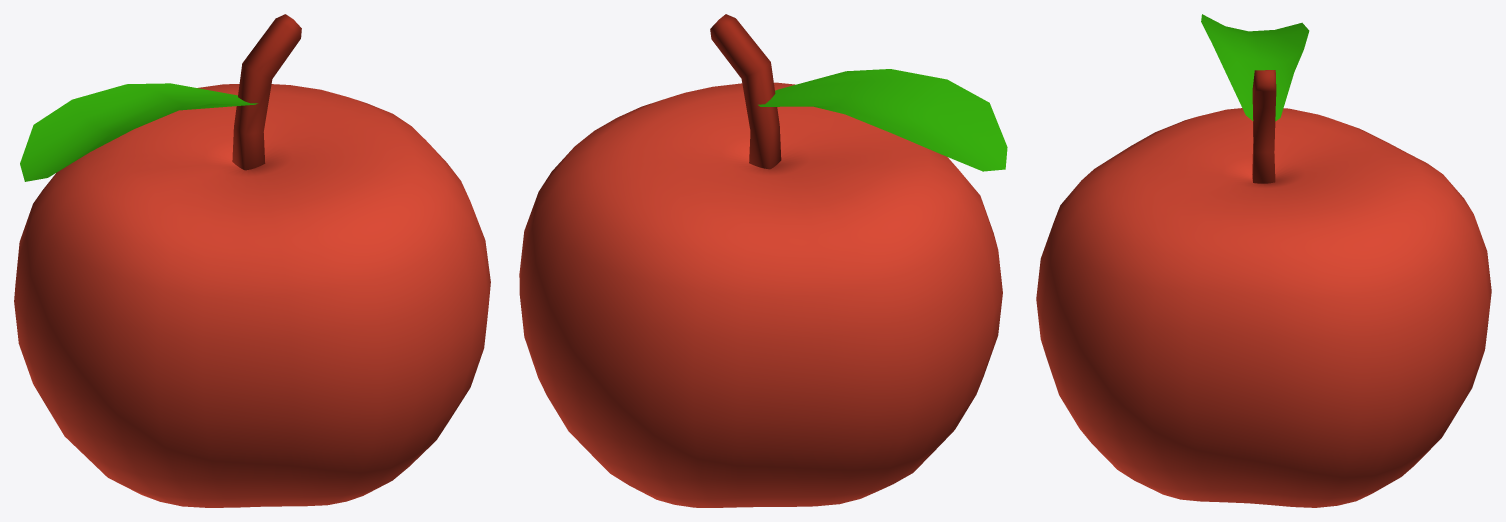
File: Maçã.gltf
3 renders of one model, left to right at view 1: azimuth 30°, elevation 25°; view 2: azimuth 150°, elevation 25°; view 3: azimuth 270°, elevation 25°, orthographic. The views are drawn at different scales.
Visible parts, largest first — view 1: Plane; view 2: Plane; view 3: Plane.
Part boxes in pixels (<box>): Plane: <box>14,14,490,507</box>; Plane: <box>519,14,1007,507</box>; Plane: <box>1036,14,1491,507</box>.
Bounding box in the file's own units: 2.08 × 2.05 × 2.
